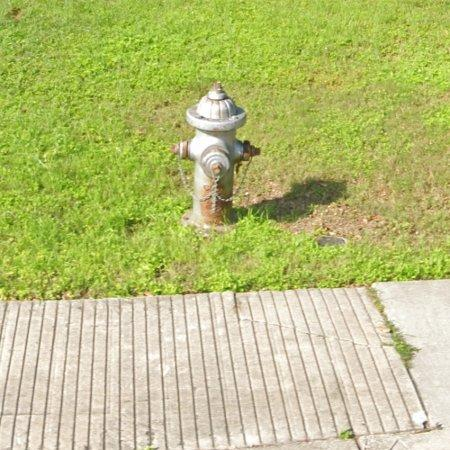a fire hydrant: (173, 82, 260, 229)
